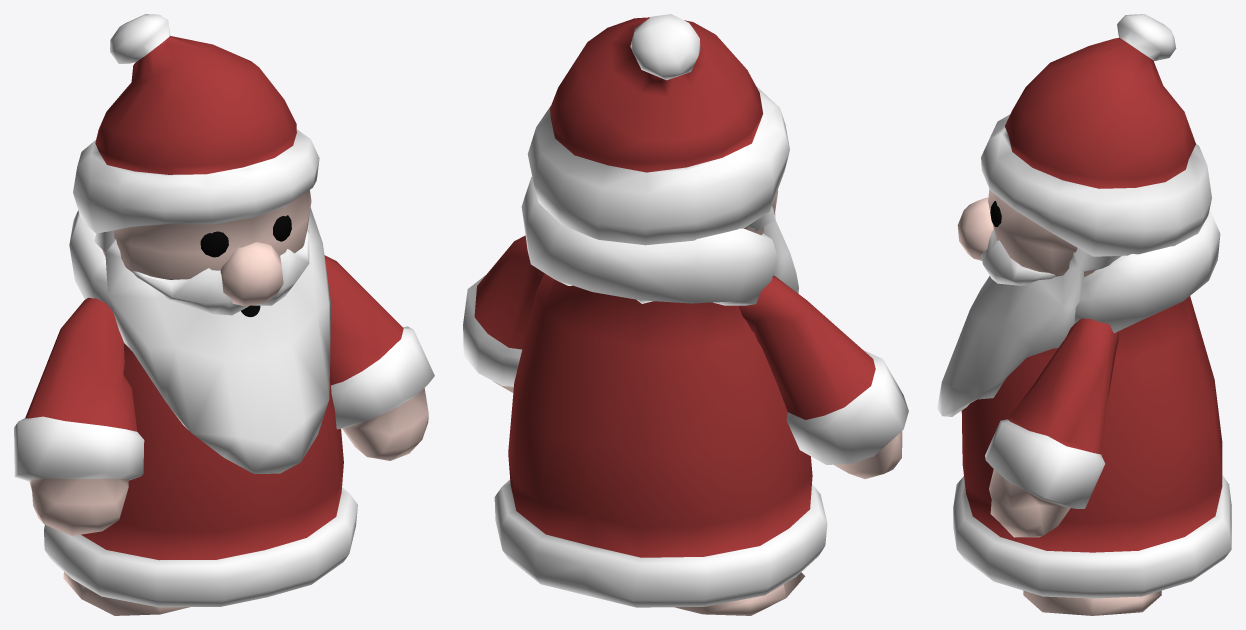
Rendered from santa.glb.
The picture shows the model from 3 angles, left to right: view 1: azimuth 30°, elevation 25°; view 2: azimuth 150°, elevation 25°; view 3: azimuth 270°, elevation 25°; orthographic projection. The views are drawn at different scales.
Visible parts, largest first — view 1: Santa_toy_geo; view 2: Santa_toy_geo; view 3: Santa_toy_geo.
Part boxes in pixels (x1,y1,x2,y2): Santa_toy_geo: [14, 14, 434, 615]; Santa_toy_geo: [463, 14, 908, 615]; Santa_toy_geo: [937, 14, 1231, 615].
Bounding box in the file's own units: 4.87 × 6.13 × 3.09.
